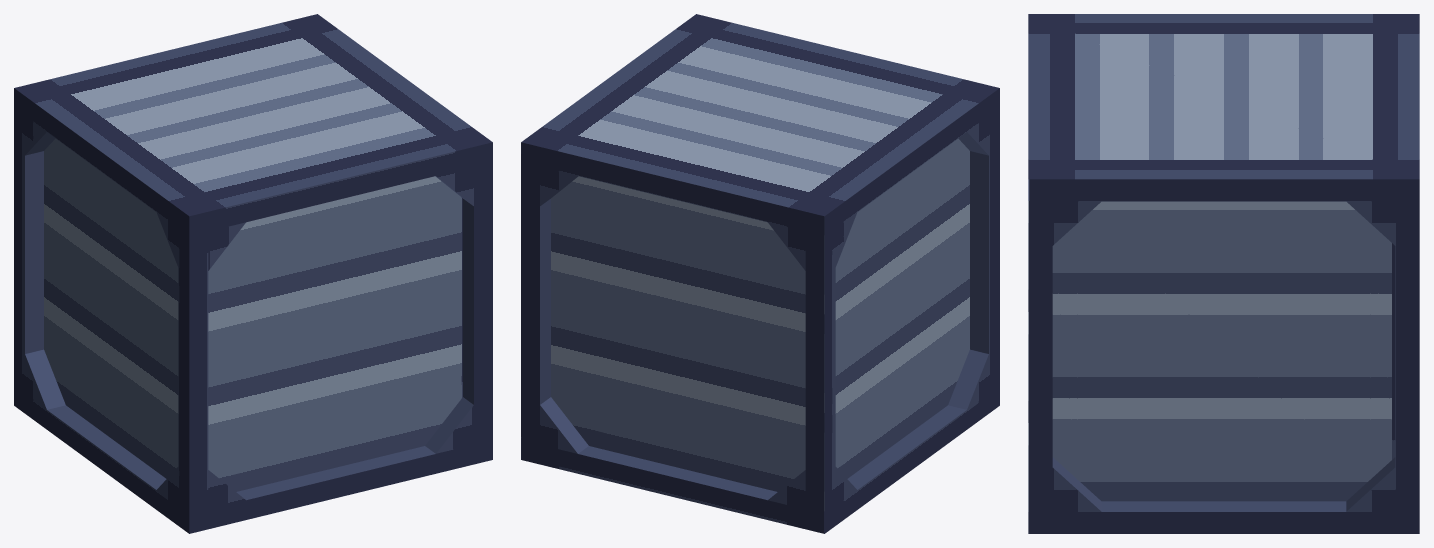
File: Crate.fbx
The picture shows the model from 3 angles, left to right: view 1: azimuth 30°, elevation 25°; view 2: azimuth 150°, elevation 25°; view 3: azimuth 270°, elevation 25°; orthographic projection. The views are drawn at different scales.
Parts seen in each view (by area): view 1: Cube; view 2: Cube; view 3: Cube.
Boxes of the visible parts, <box> form: Cube: <box>14,14,492,533</box>; Cube: <box>521,14,999,533</box>; Cube: <box>1028,14,1419,533</box>.
Bounding box in the file's own units: 100 × 100 × 100.
1 material, 1 textured.
